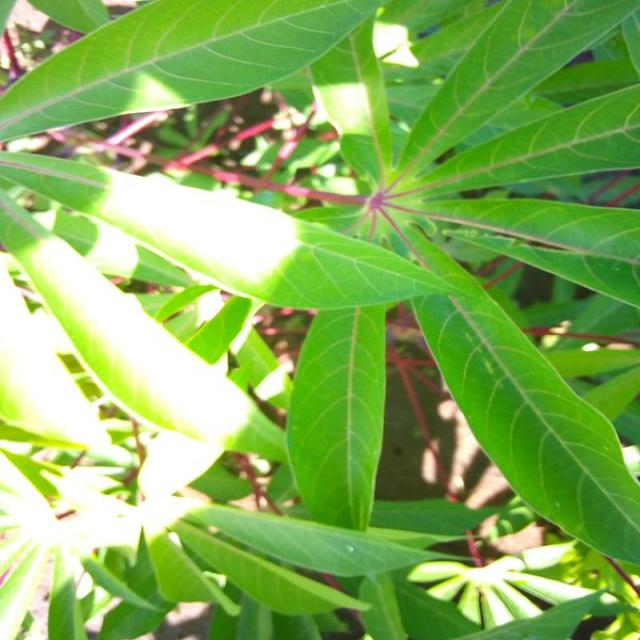cassava leaf: (0, 0, 639, 639), (402, 220, 640, 573), (0, 0, 390, 145), (285, 303, 387, 531)
